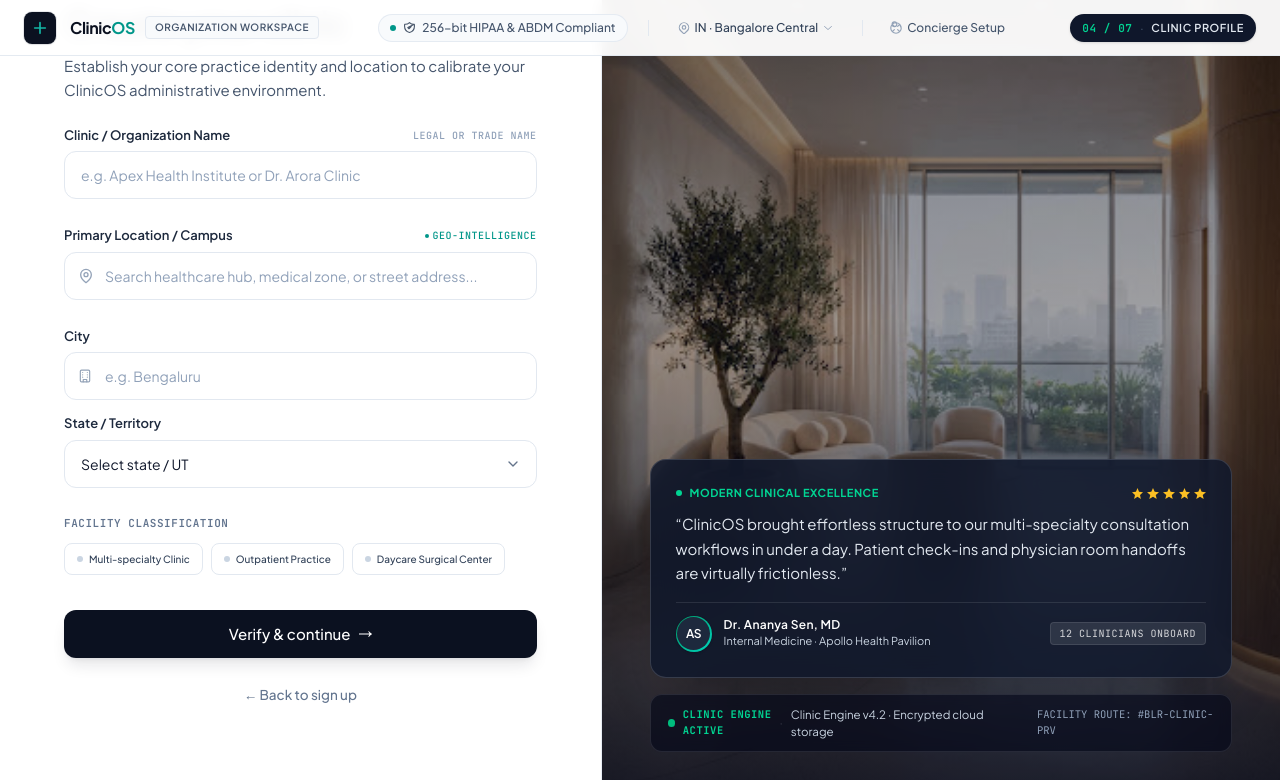
Test: clinic profile page › requires the profile fields and a facility classification
(page scrolled)
What coordinates should you click on to do the following:
click the button "Verify & continue"
I would click on:
 (300, 634)
Its box is [64,610,537,658].
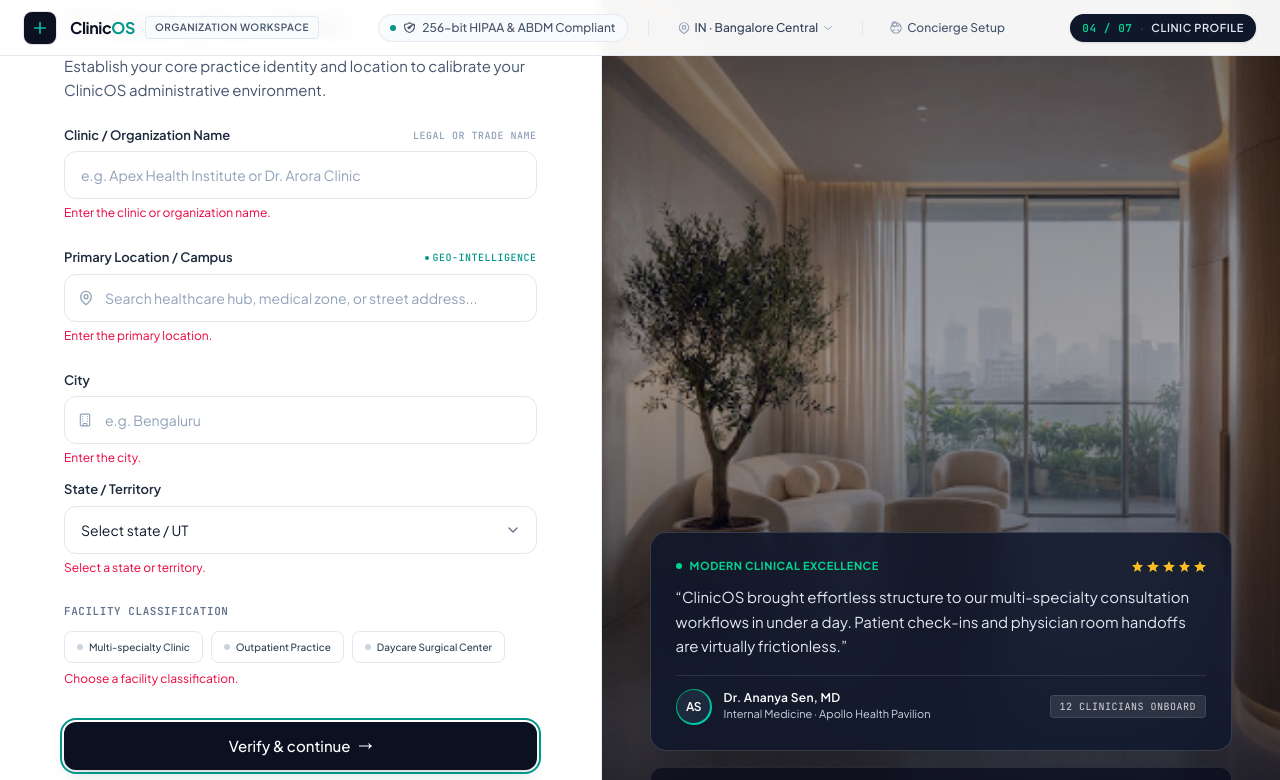
Now the text "Enter the clinic or organization name." is shown, box [64,205,271,220]
Now the text "Select a state or territory." is shown, box [64,560,206,575]
Now the text "Choose a facility classification." is shown, box [64,671,238,686]
